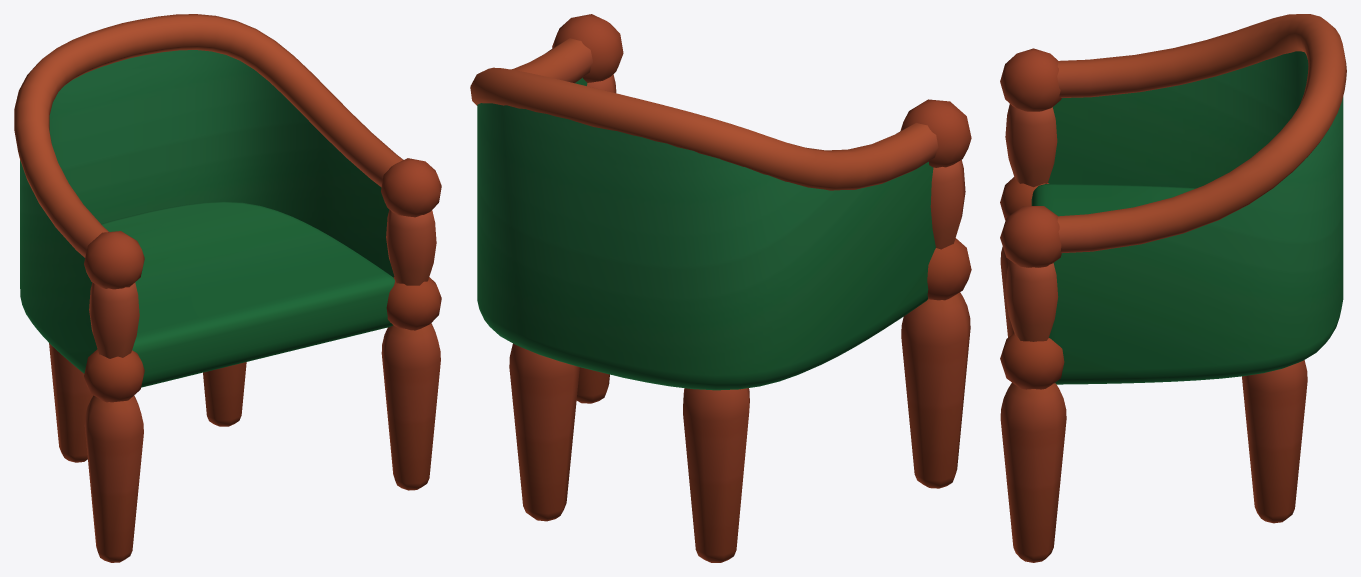
The model's file is Armchair_27.glb.
3 views of the same model, side by side, from view 1: azimuth 30°, elevation 25°; view 2: azimuth 150°, elevation 25°; view 3: azimuth 270°, elevation 25° (orthographic). The views are drawn at different scales.
Visible parts, largest first — view 1: Armchair_27; view 2: Armchair_27; view 3: Armchair_27.
Part boxes in pixels (<box>): Armchair_27: <box>14,14,441,562</box>; Armchair_27: <box>470,14,971,562</box>; Armchair_27: <box>1000,14,1346,562</box>.
Size of the model in its own units: 0.7347 by 0.8008 by 0.5853.
Materials: 1 (1 with a texture image).
